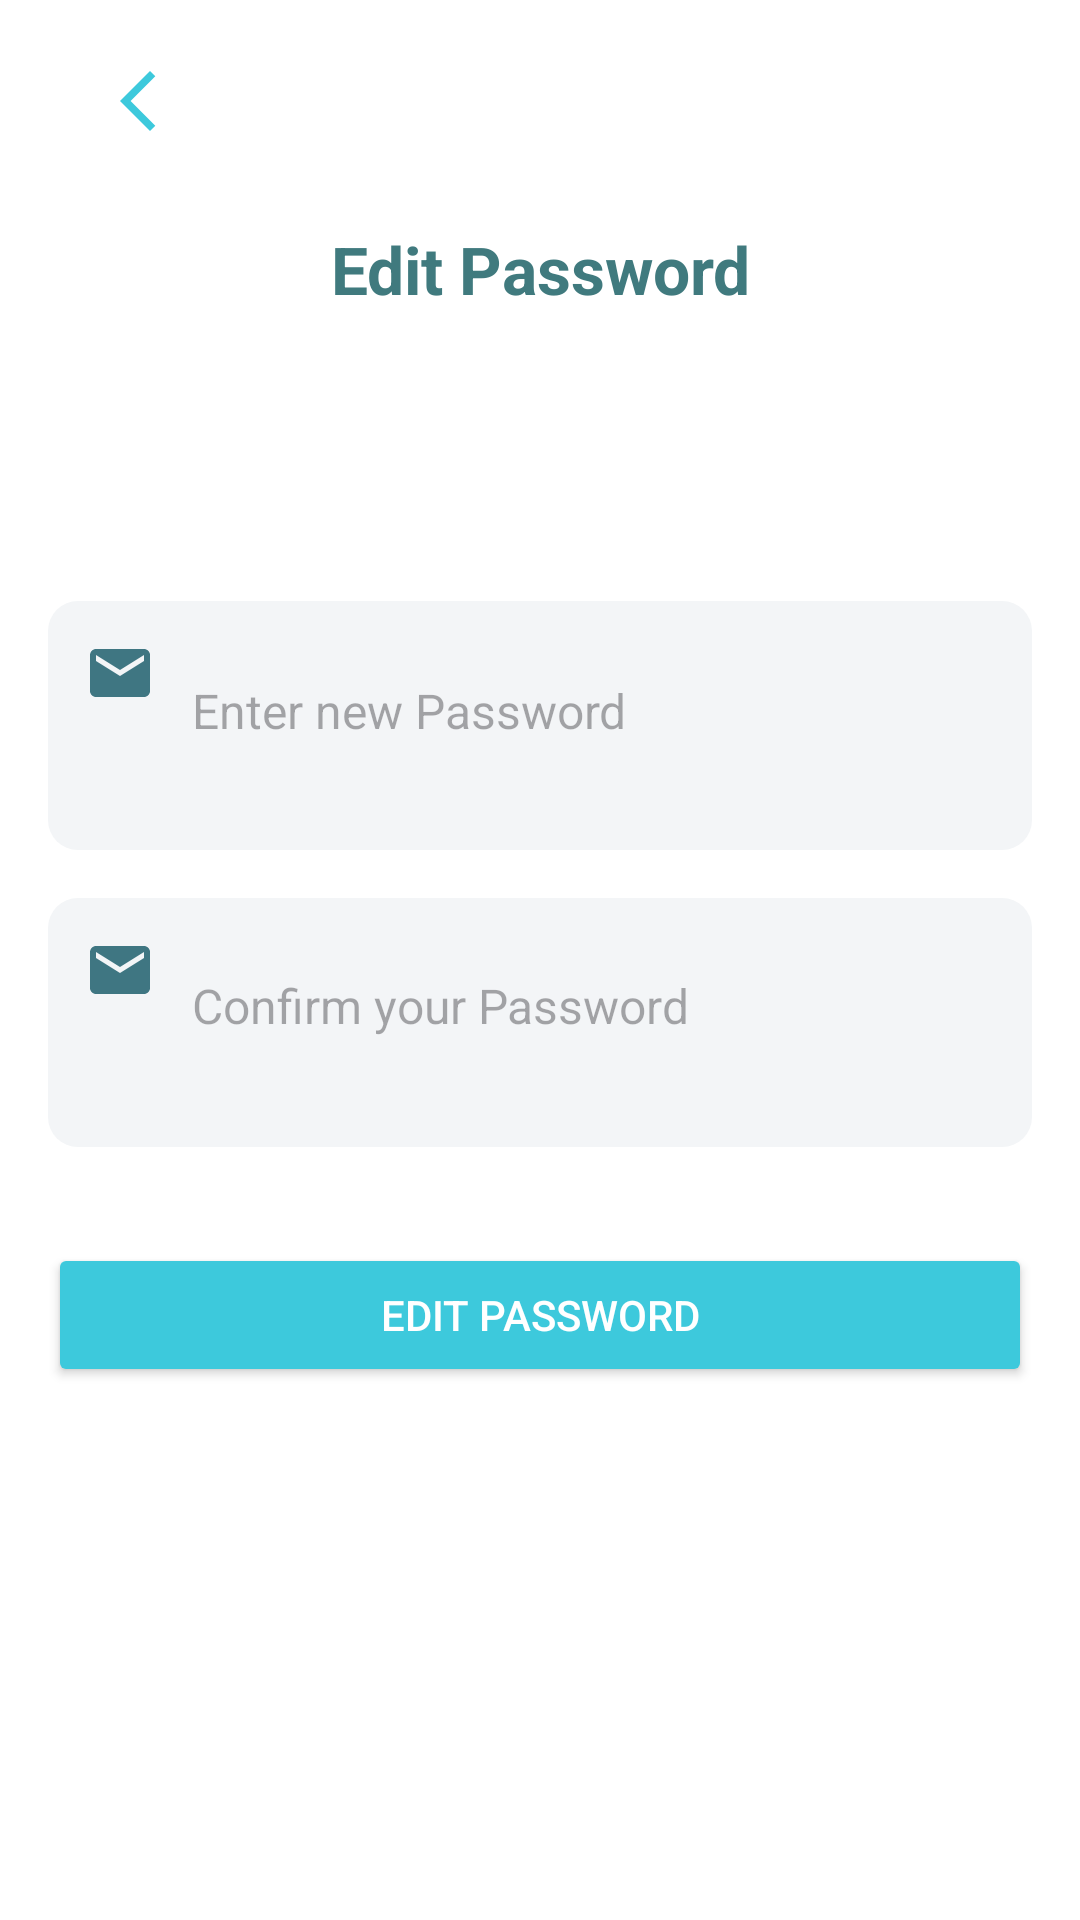

Screen size 1080×1920. Icon name, then its center in pixels as (x=x, y=y):
Back: (x=137, y=101)
Email Icon: (x=120, y=673)
